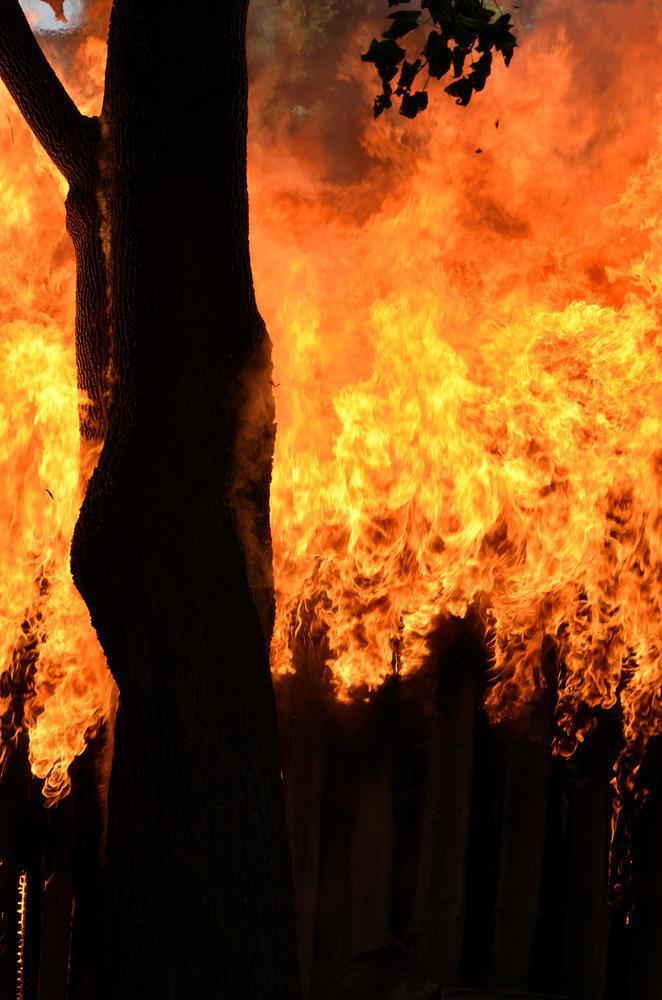fire: (253, 94, 660, 684), (2, 36, 110, 785)
